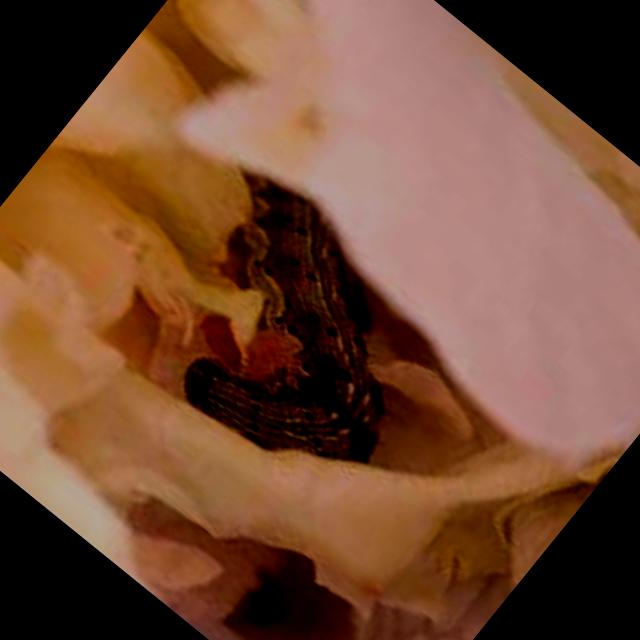Cotton bollworm: (76, 100, 524, 549)
